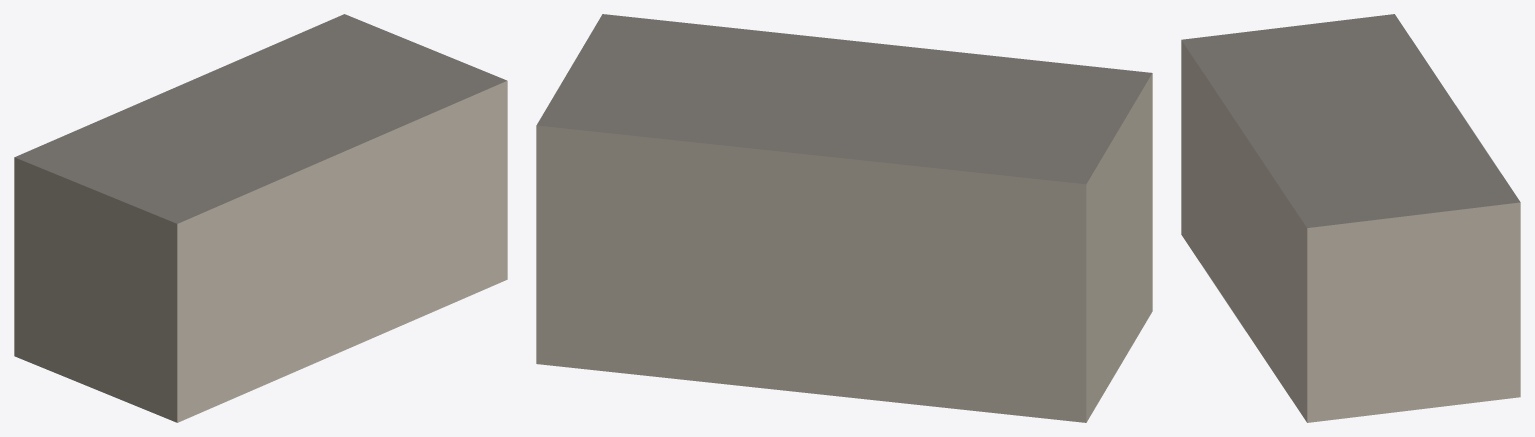
The picture shows the model from 3 angles, left to right: view 1: azimuth 30°, elevation 25°; view 2: azimuth 150°, elevation 25°; view 3: azimuth 270°, elevation 25°; orthographic projection. The views are drawn at different scales.
Parts seen in each view (by area): view 1: HP-w380339998; view 2: HP-w380339998; view 3: HP-w380339998.
Part boxes in pixels (box(x1,y1,x2,y2)): HP-w380339998: box(14, 14, 507, 422); HP-w380339998: box(536, 14, 1152, 422); HP-w380339998: box(1181, 14, 1520, 422).
Bounding box in the file's own units: 28.29 × 12 × 18.95.
